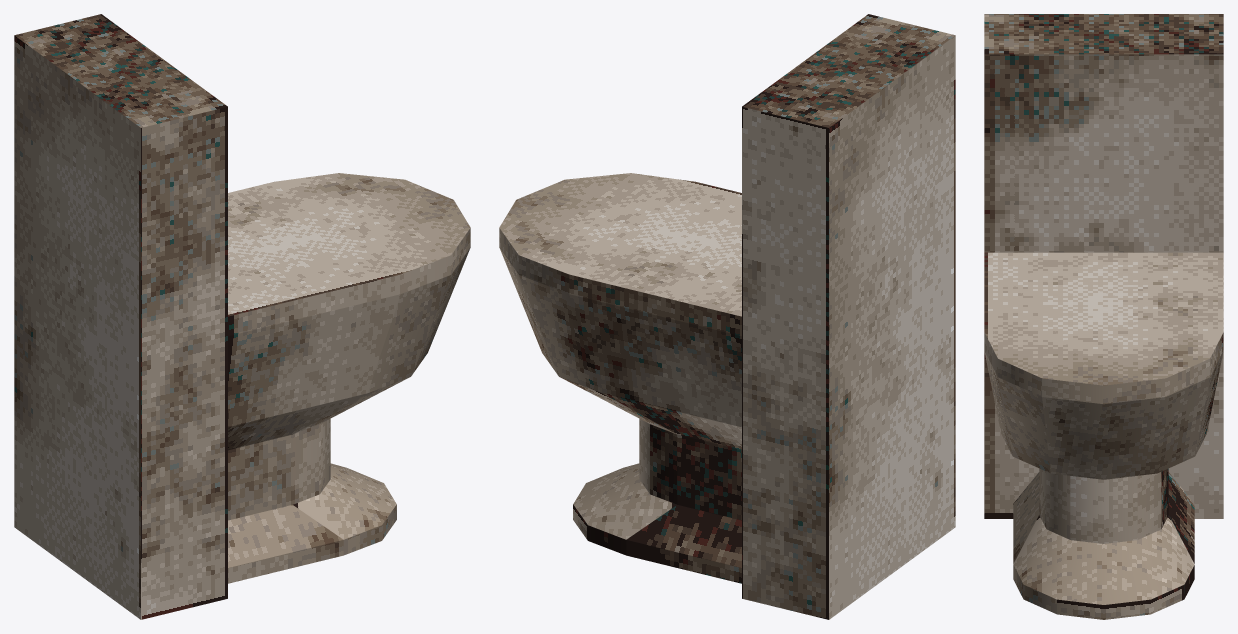
File: table.glb
The picture shows the model from 3 angles, left to right: view 1: azimuth 30°, elevation 25°; view 2: azimuth 150°, elevation 25°; view 3: azimuth 270°, elevation 25°; orthographic projection. The views are drawn at different scales.
Parts seen in each view (by area): view 1: toilet-col; view 2: toilet-col; view 3: toilet-col.
Boxes of the visible parts, box(x1,y1,x2,y2) form: toilet-col: box(14, 14, 470, 619); toilet-col: box(499, 14, 955, 619); toilet-col: box(984, 14, 1223, 619).
Bounding box in the file's own units: 0.6 × 0.75 × 0.35.
1 material, 1 textured.
